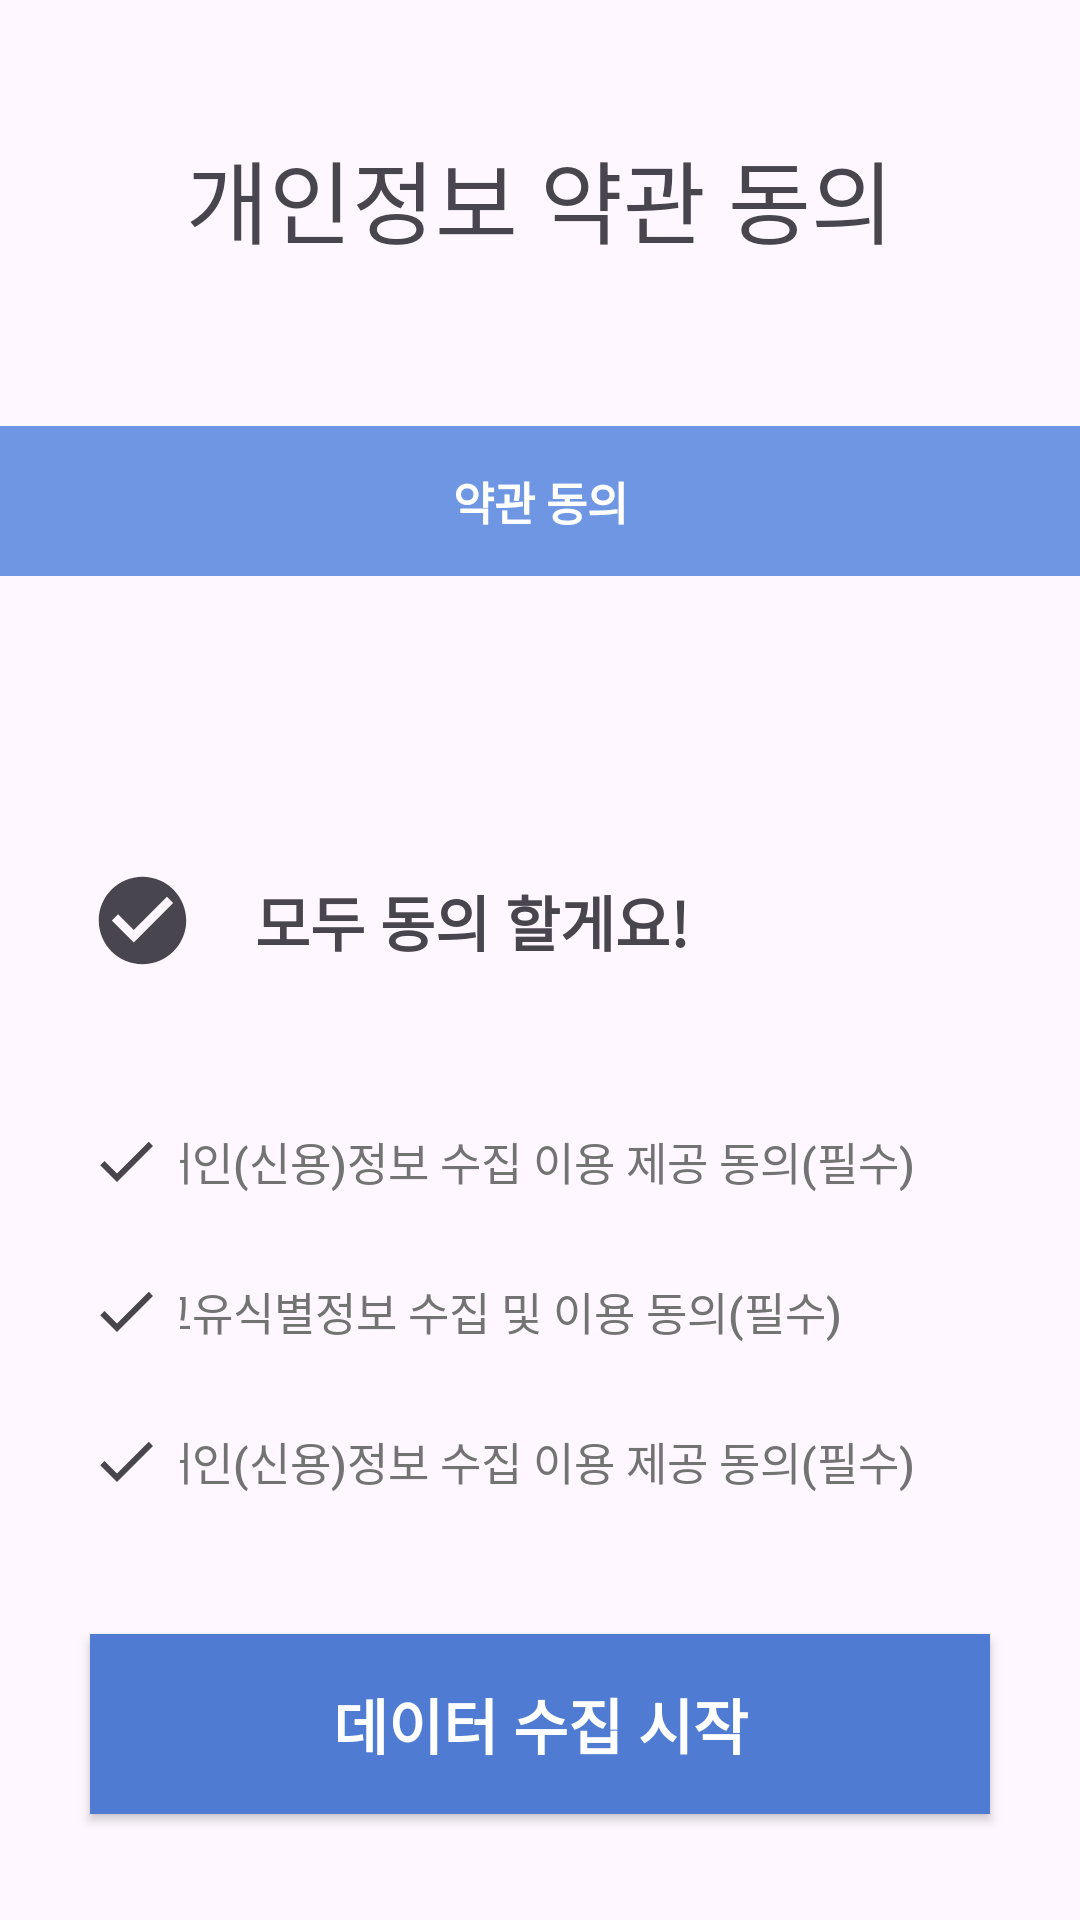

Point at icon controls on the screen. Image size 1080x1920, points as (x=x, y=y).
check: (x=126, y=1162), (x=126, y=1312), (x=126, y=1462)
check circle: (x=142, y=920)
